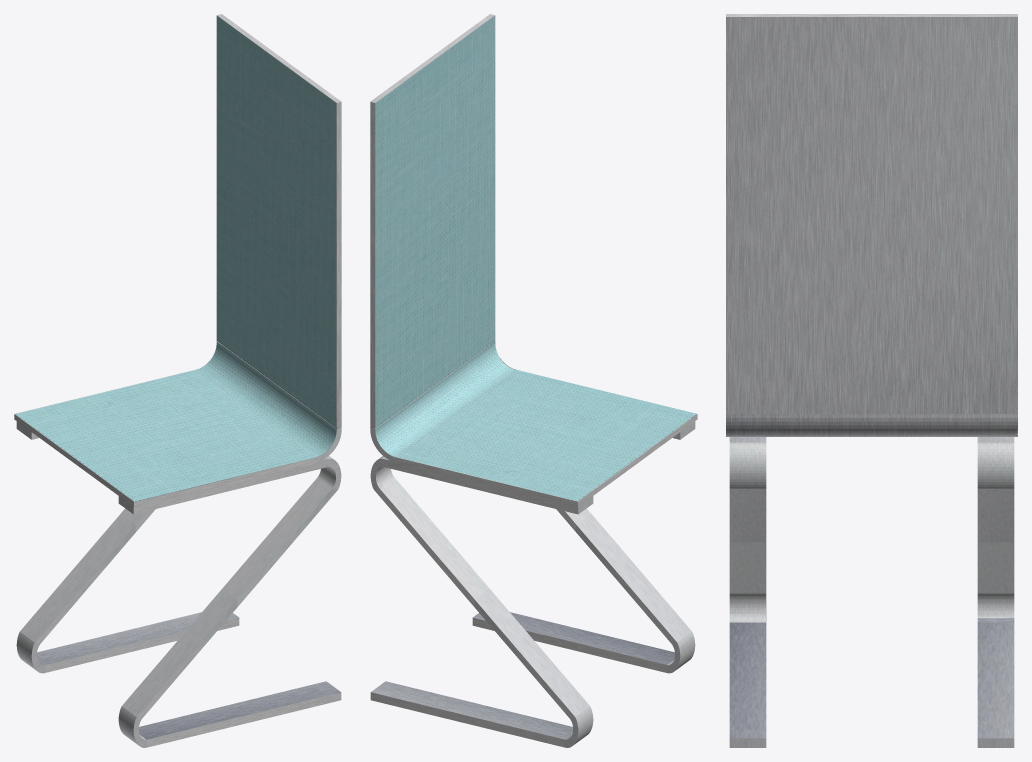
The model's file is Chaise.fbx.
3 views of the same model, side by side, from view 1: azimuth 30°, elevation 25°; view 2: azimuth 150°, elevation 25°; view 3: azimuth 270°, elevation 25° (orthographic). The views are drawn at different scales.
Visible parts, largest first — view 1: Plane, Plane.007, Plane.000; view 2: Plane, Plane.000, Plane.007; view 3: Plane, Plane.007, Plane.000.
Boxes of the visible parts, x1,y1,x2,y2 form: Plane: (14, 14, 341, 506); Plane.007: (118, 456, 341, 747); Plane.000: (16, 421, 239, 673); Plane: (370, 14, 697, 506); Plane.000: (370, 456, 593, 747); Plane.007: (472, 421, 695, 673); Plane: (726, 14, 1017, 436); Plane.007: (729, 437, 766, 747); Plane.000: (977, 437, 1014, 747).
Bounding box in the file's own units: 40.2 × 110 × 40.
